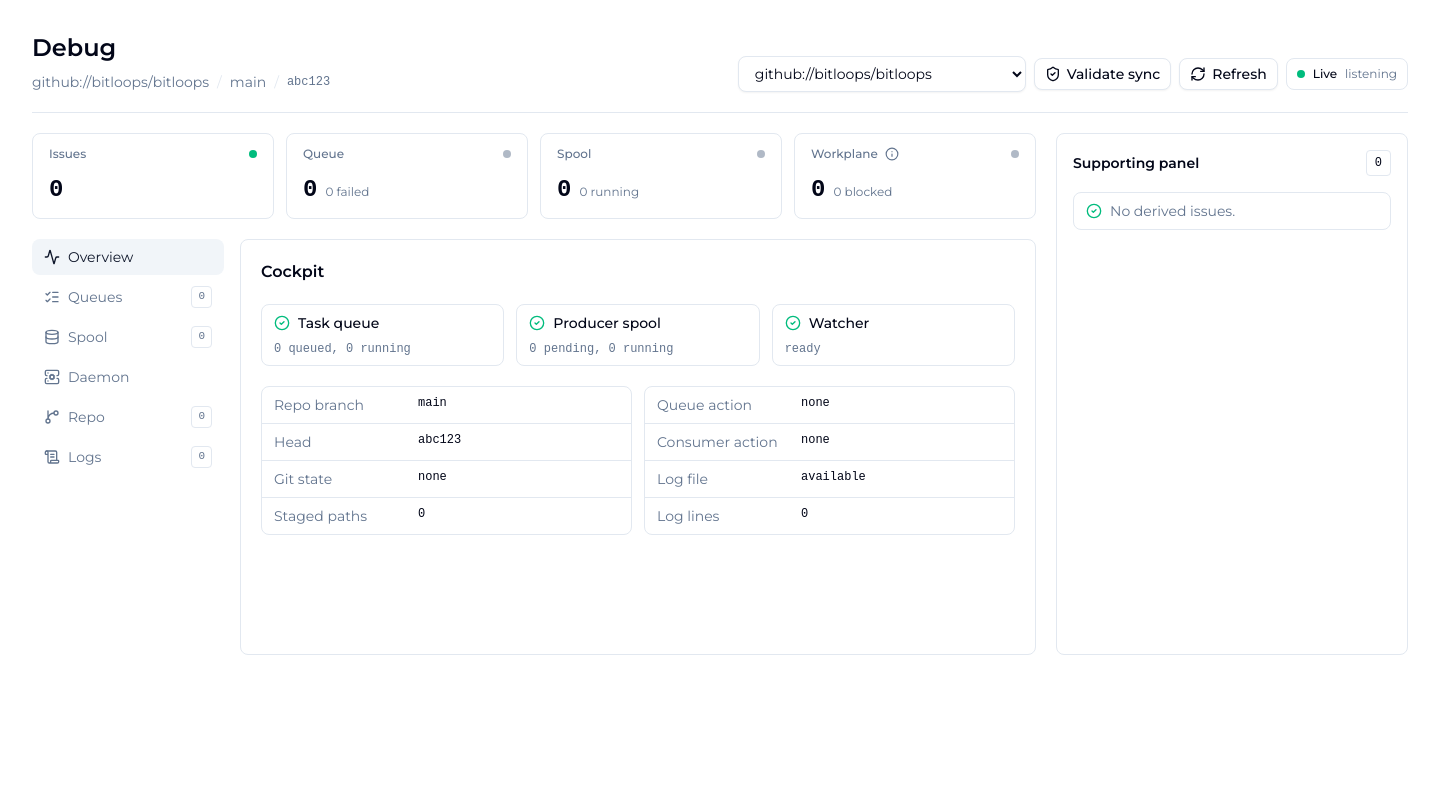
Scenario: Debug › reports validation drift separately from task failure
Click the button "Validate sync". click: (1103, 74)
box: 1034,58 -> 1171,90
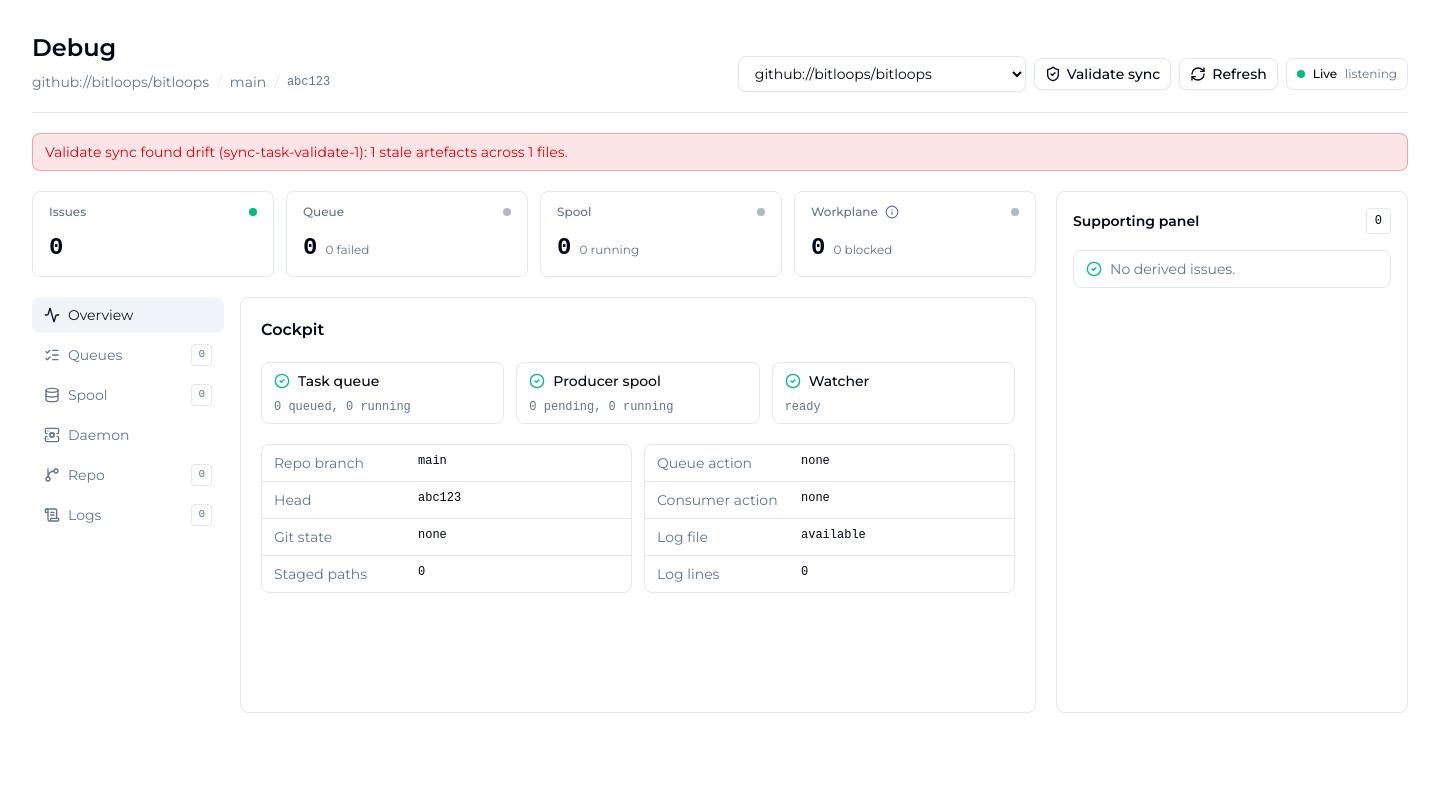
Expected: the message shows "Validate sync found drift", 45,143 -> 568,161
Expected: the message shows "1 stale artefacts", 45,143 -> 568,161
